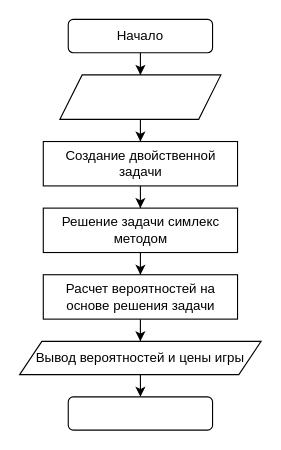
The diagram is 281 pixels wide and 450 high, and some of its shapes have lost their labels. The shapes that lost their labels are listed below. From the top down, each one's box as (x1, y1, x2, y2) in pixels, then its label:
(59, 74, 221, 119): Ввод матрицы выигрышей
(67, 396, 213, 430): Конец
